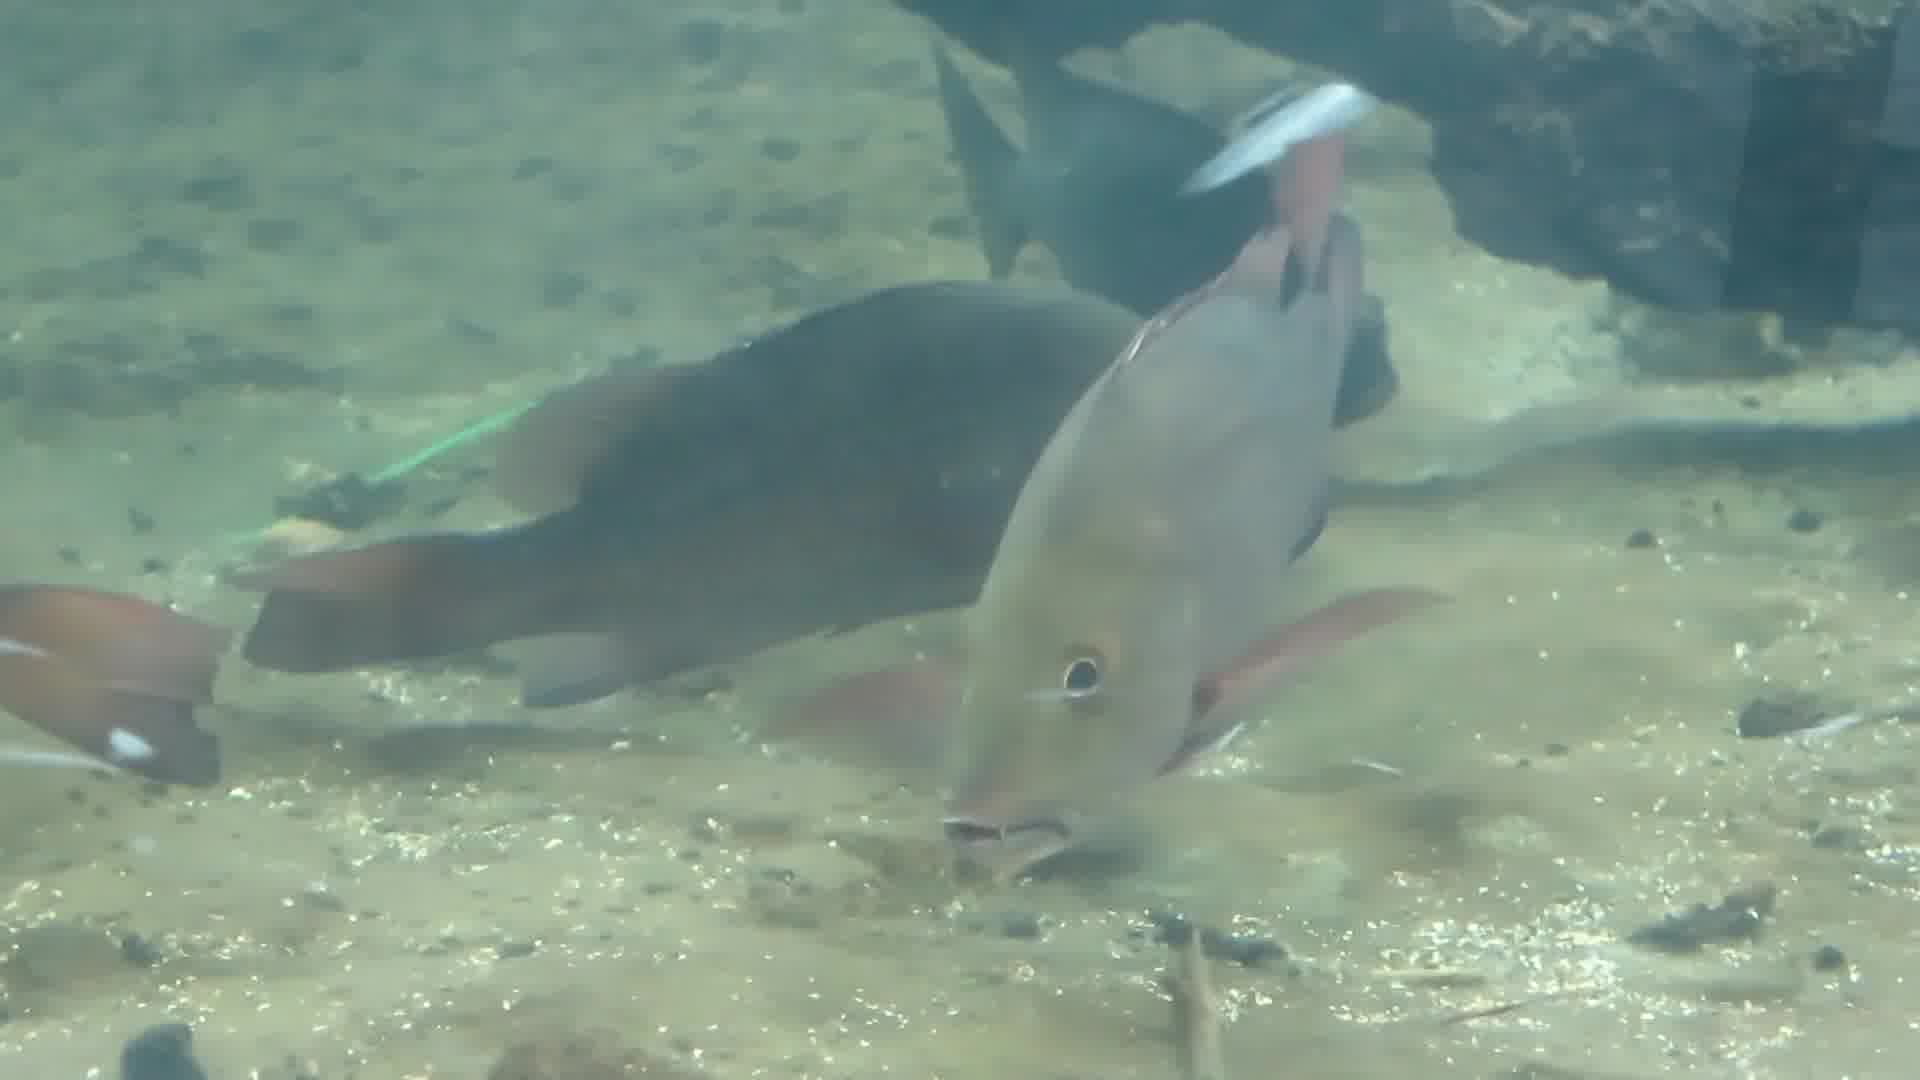Lutjanus argentimaculatus: (945, 214, 1317, 845)
